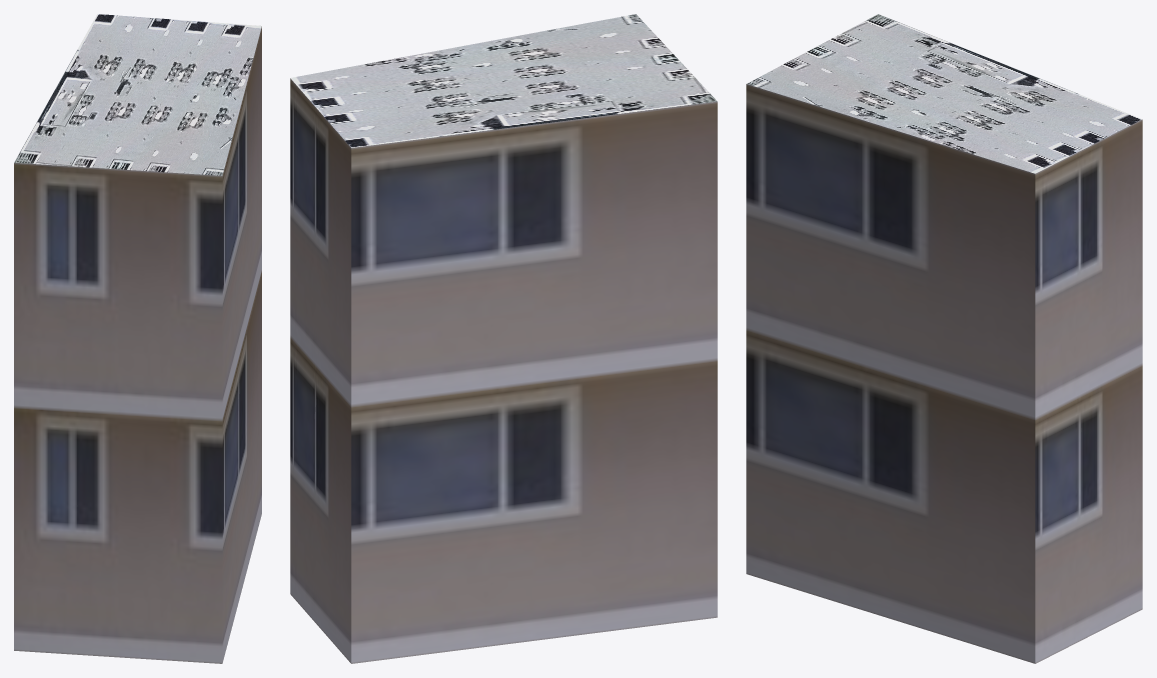
The model's file is ResTex__2948.fbx.
3 views of the same model, side by side, from view 1: azimuth 30°, elevation 25°; view 2: azimuth 150°, elevation 25°; view 3: azimuth 270°, elevation 25° (orthographic). The views are drawn at different scales.
Parts seen in each view (by area): view 1: CityEngineMaterial_21_m, CityEngineMaterial_8_m; view 2: CityEngineMaterial_21_m, CityEngineMaterial_8_m; view 3: CityEngineMaterial_21_m, CityEngineMaterial_8_m.
Boxes of the visible parts, bbox=[...] form: CityEngineMaterial_21_m: bbox=[14, 26, 261, 663]; CityEngineMaterial_8_m: bbox=[14, 14, 261, 175]; CityEngineMaterial_21_m: bbox=[290, 78, 717, 663]; CityEngineMaterial_8_m: bbox=[290, 14, 717, 147]; CityEngineMaterial_21_m: bbox=[746, 84, 1142, 663]; CityEngineMaterial_8_m: bbox=[747, 14, 1141, 173].
Bounding box in the file's own units: 4.2 × 6 × 4.39.
2 materials, 2 textured.
